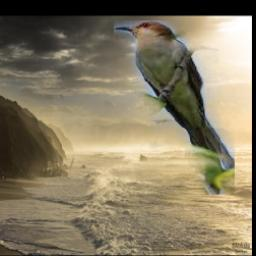Cuckoo: (115, 21, 236, 196)
